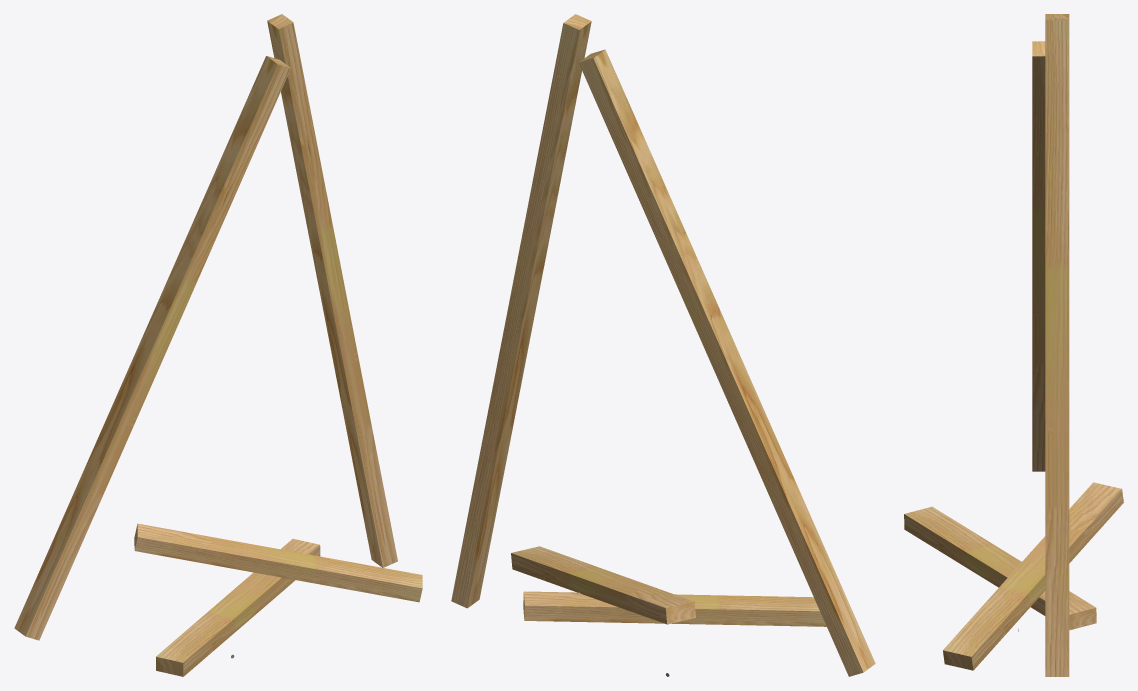
Rendered from VERSION 1.fbx.
3 renders of one model, left to right at view 1: azimuth 30°, elevation 25°; view 2: azimuth 150°, elevation 25°; view 3: azimuth 270°, elevation 25°, orthographic. The views are drawn at different scales.
Visible parts, largest first — view 1: Cube.005, Cube.021, Cube.006, Cube.018; view 2: Cube.005, Cube.021, Cube.018, Cube.006; view 3: Cube.021, Cube.006, Cube.005, Cube.018.
Boxes of the visible parts, box(x1,y1,x2,y2) form: Cube.005: box(14, 56, 290, 640); Cube.021: box(267, 14, 397, 567); Cube.006: box(134, 523, 422, 602); Cube.018: box(156, 538, 320, 676); Cube.005: box(579, 49, 875, 676); Cube.021: box(451, 14, 591, 608); Cube.018: box(523, 591, 826, 626); Cube.006: box(511, 546, 695, 624); Cube.021: box(1045, 14, 1069, 676); Cube.006: box(943, 482, 1123, 670); Cube.005: box(1032, 41, 1045, 471); Cube.018: box(904, 506, 1096, 630).
Bounding box in the file's own units: 625 × 961 × 294.
